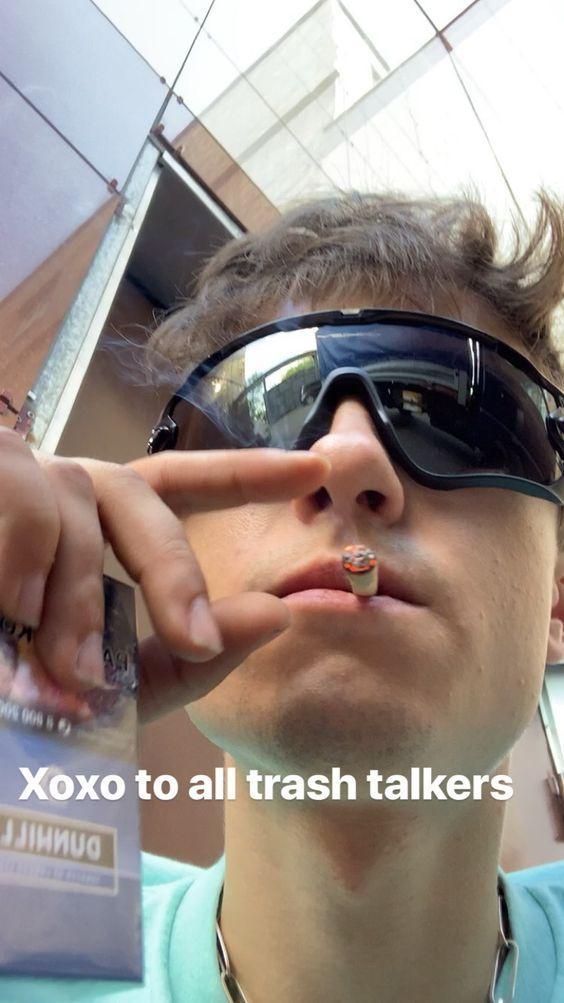cigarette: (342, 544, 378, 597)
